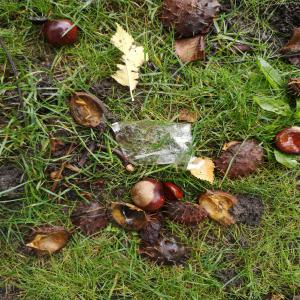Trash: (109, 120, 199, 167)
